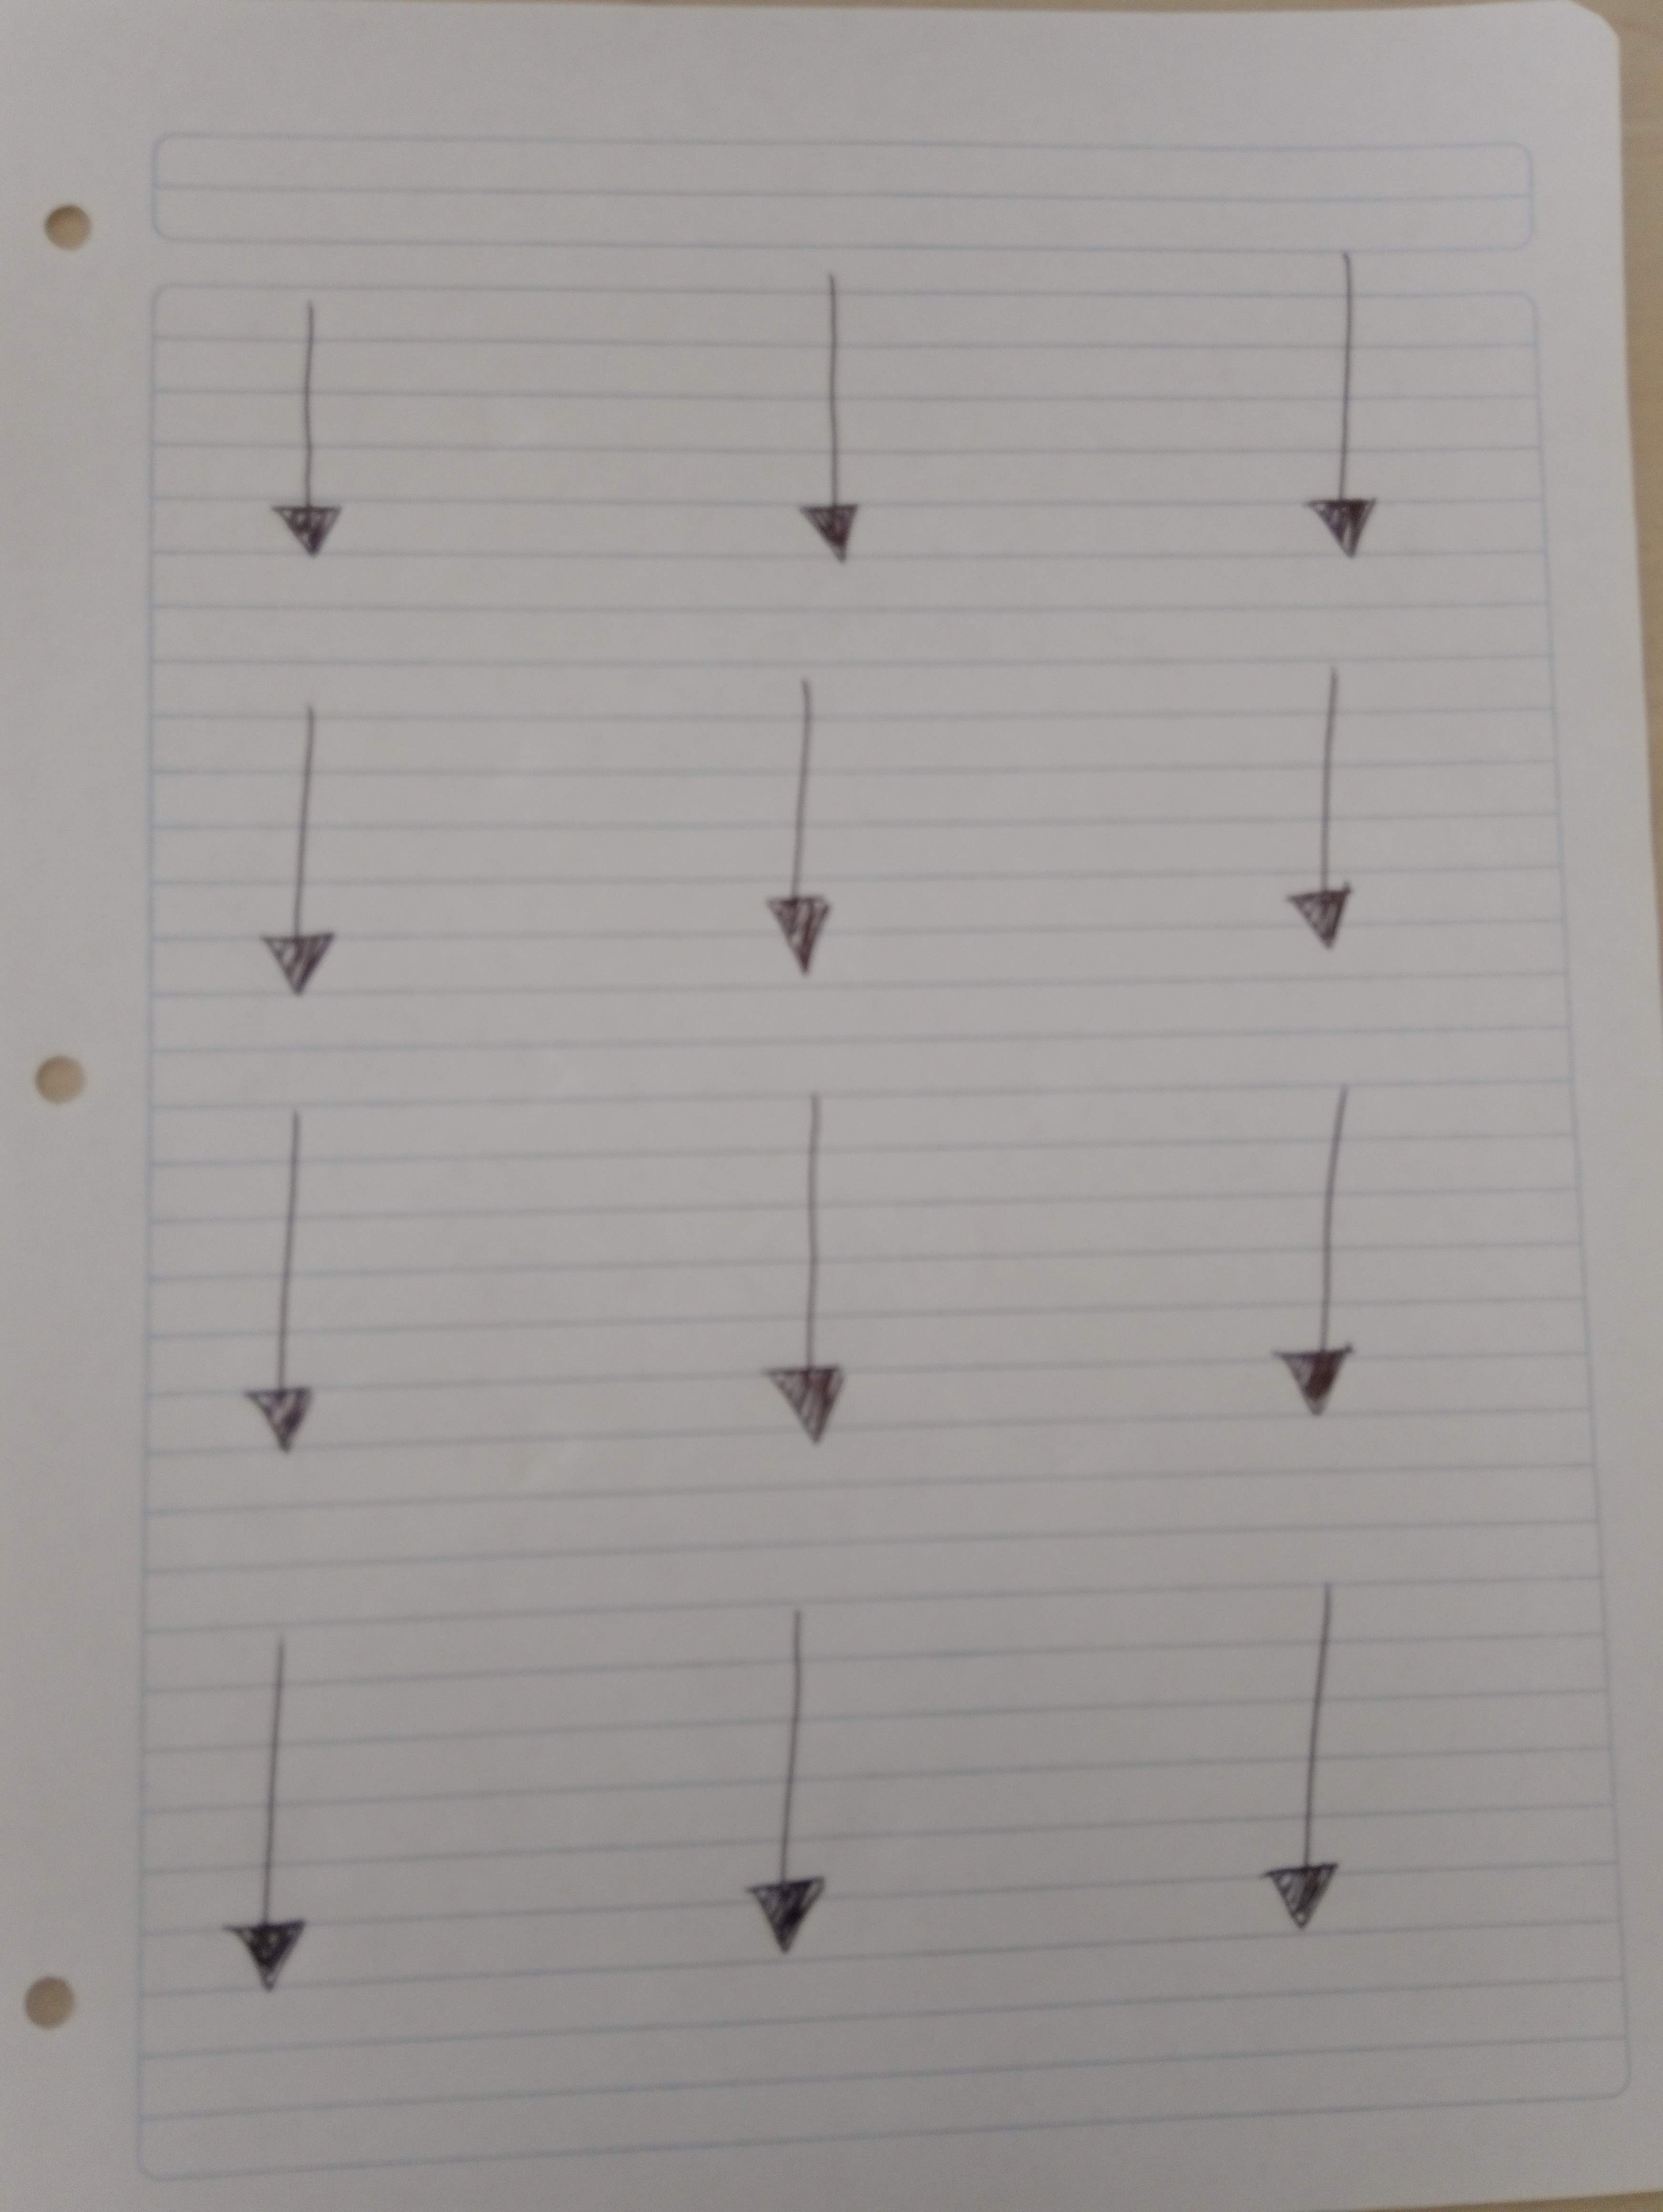arrow_line_down: (1244, 1575, 1390, 1957), (723, 1102, 870, 1447), (1259, 1084, 1394, 1454), (236, 1124, 360, 1468), (220, 1618, 320, 2023), (741, 1594, 844, 1957), (236, 691, 339, 1011), (1291, 251, 1397, 555), (1273, 677, 1380, 951), (746, 688, 844, 974), (793, 272, 884, 559), (264, 321, 353, 555)
